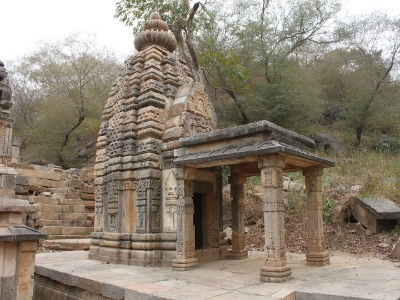amalaka: (122, 15, 196, 54)
gopuram: (93, 45, 212, 183)
mandapa: (168, 117, 340, 273)
